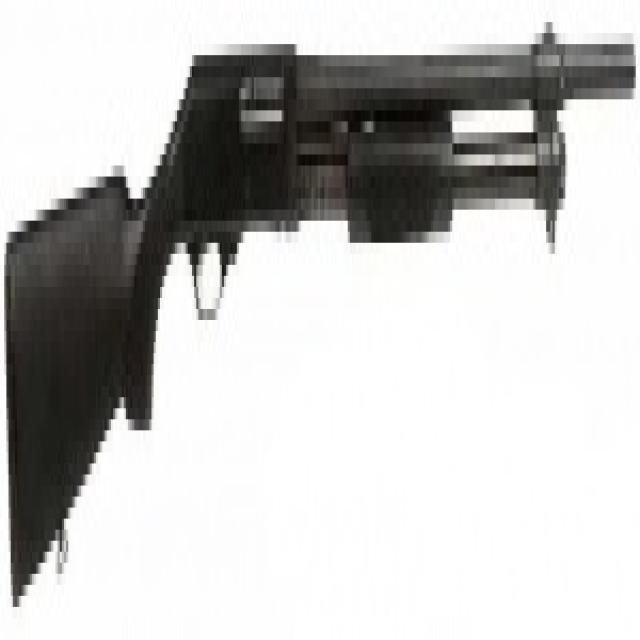rifle: (2, 1, 637, 620)
